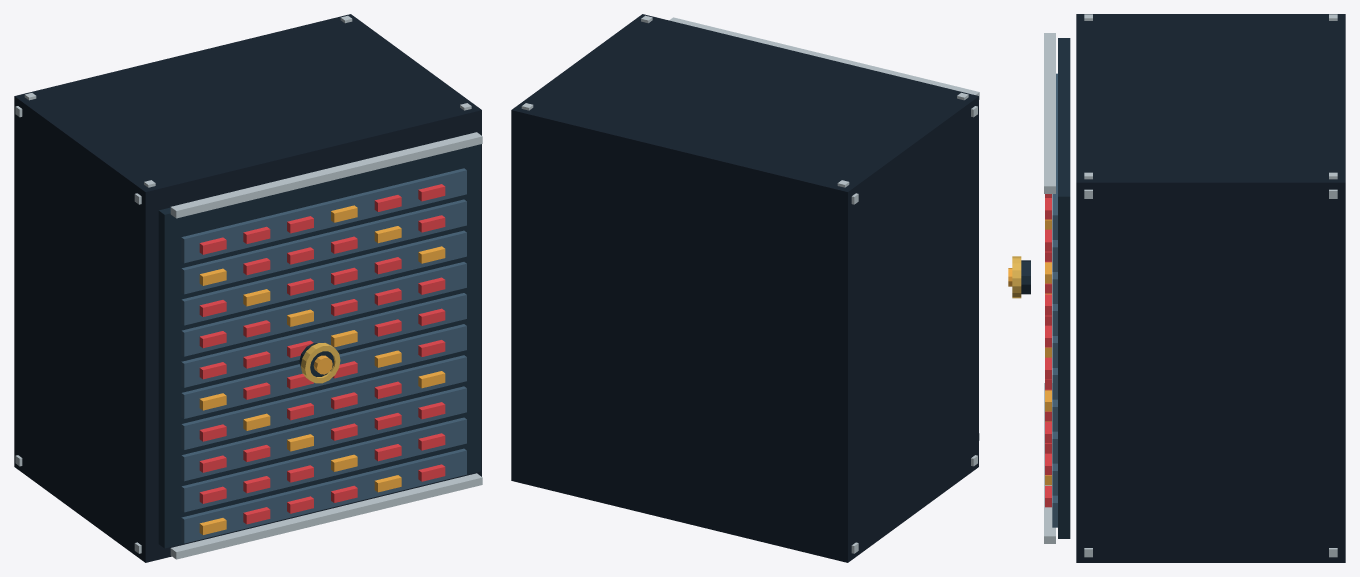
File: 60_L81_EmergencyMissionSafeHoldStation.fbx
3 views of the same model, side by side, from view 1: azimuth 30°, elevation 25°; view 2: azimuth 150°, elevation 25°; view 3: azimuth 270°, elevation 25° (orthographic). The views are drawn at different scales.
Visible parts, largest first — view 1: EmergencyMissionSafeHoldStation; view 2: EmergencyMissionSafeHoldStation; view 3: EmergencyMissionSafeHoldStation.
Boxes of the visible parts, x1,y1,x2,y2 form: EmergencyMissionSafeHoldStation: (14,14,482,562); EmergencyMissionSafeHoldStation: (511,14,979,562); EmergencyMissionSafeHoldStation: (1008,14,1345,562).
Size of the model in its own units: 116 by 122 by 96.45.
